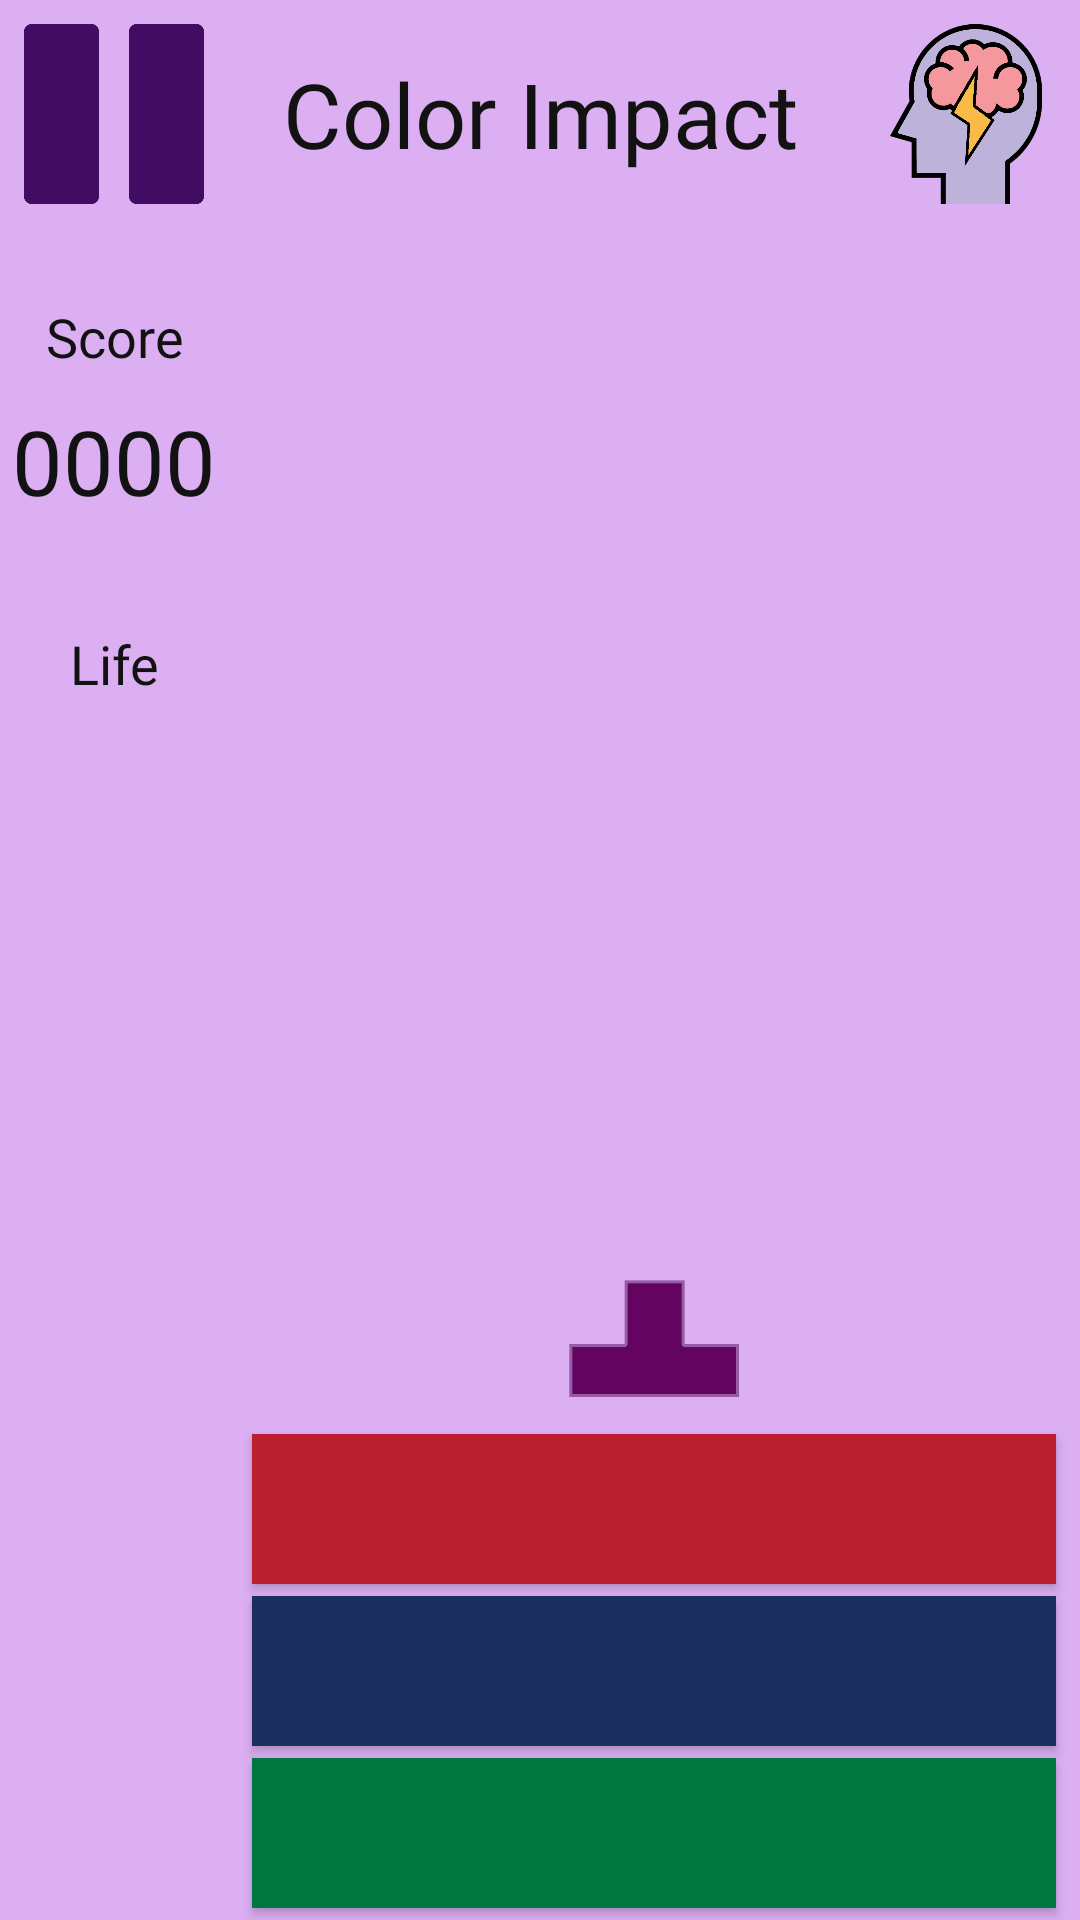

Named icons in this screenshot (1080px×1920px) and their bounding boxes, (x1=x1, y1=y1, x2=x2, y2=y2):
pause: (x1=24, y1=24, x2=204, y2=204)
reflex: (x1=890, y1=24, x2=1042, y2=204)
